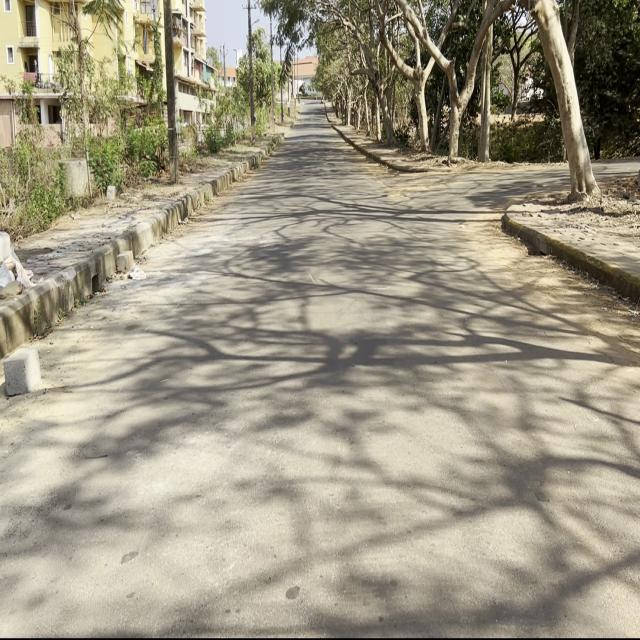Road: (4, 103, 636, 628)
